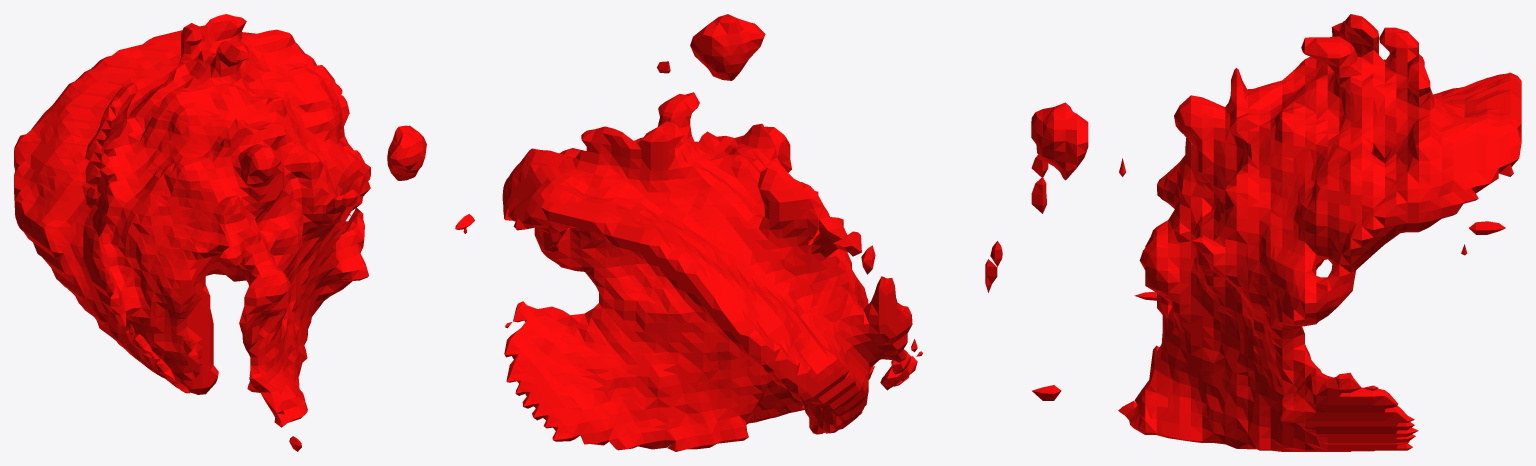
Rendered from B939XXXX-1_valve_19.obj.
3 renders of one model, left to right at view 1: azimuth 30°, elevation 25°; view 2: azimuth 150°, elevation 25°; view 3: azimuth 270°, elevation 25°, orthographic. The views are drawn at different scales.
Visible parts, largest first — view 1: 19_valve; view 2: 19_valve; view 3: 19_valve.
Boxes of the visible parts, bbox=[...] form: 19_valve: bbox=[14, 14, 426, 451]; 19_valve: bbox=[455, 14, 1002, 451]; 19_valve: bbox=[1031, 14, 1521, 451].
Bounding box in the file's own units: 75.65 × 76.97 × 85.95.
